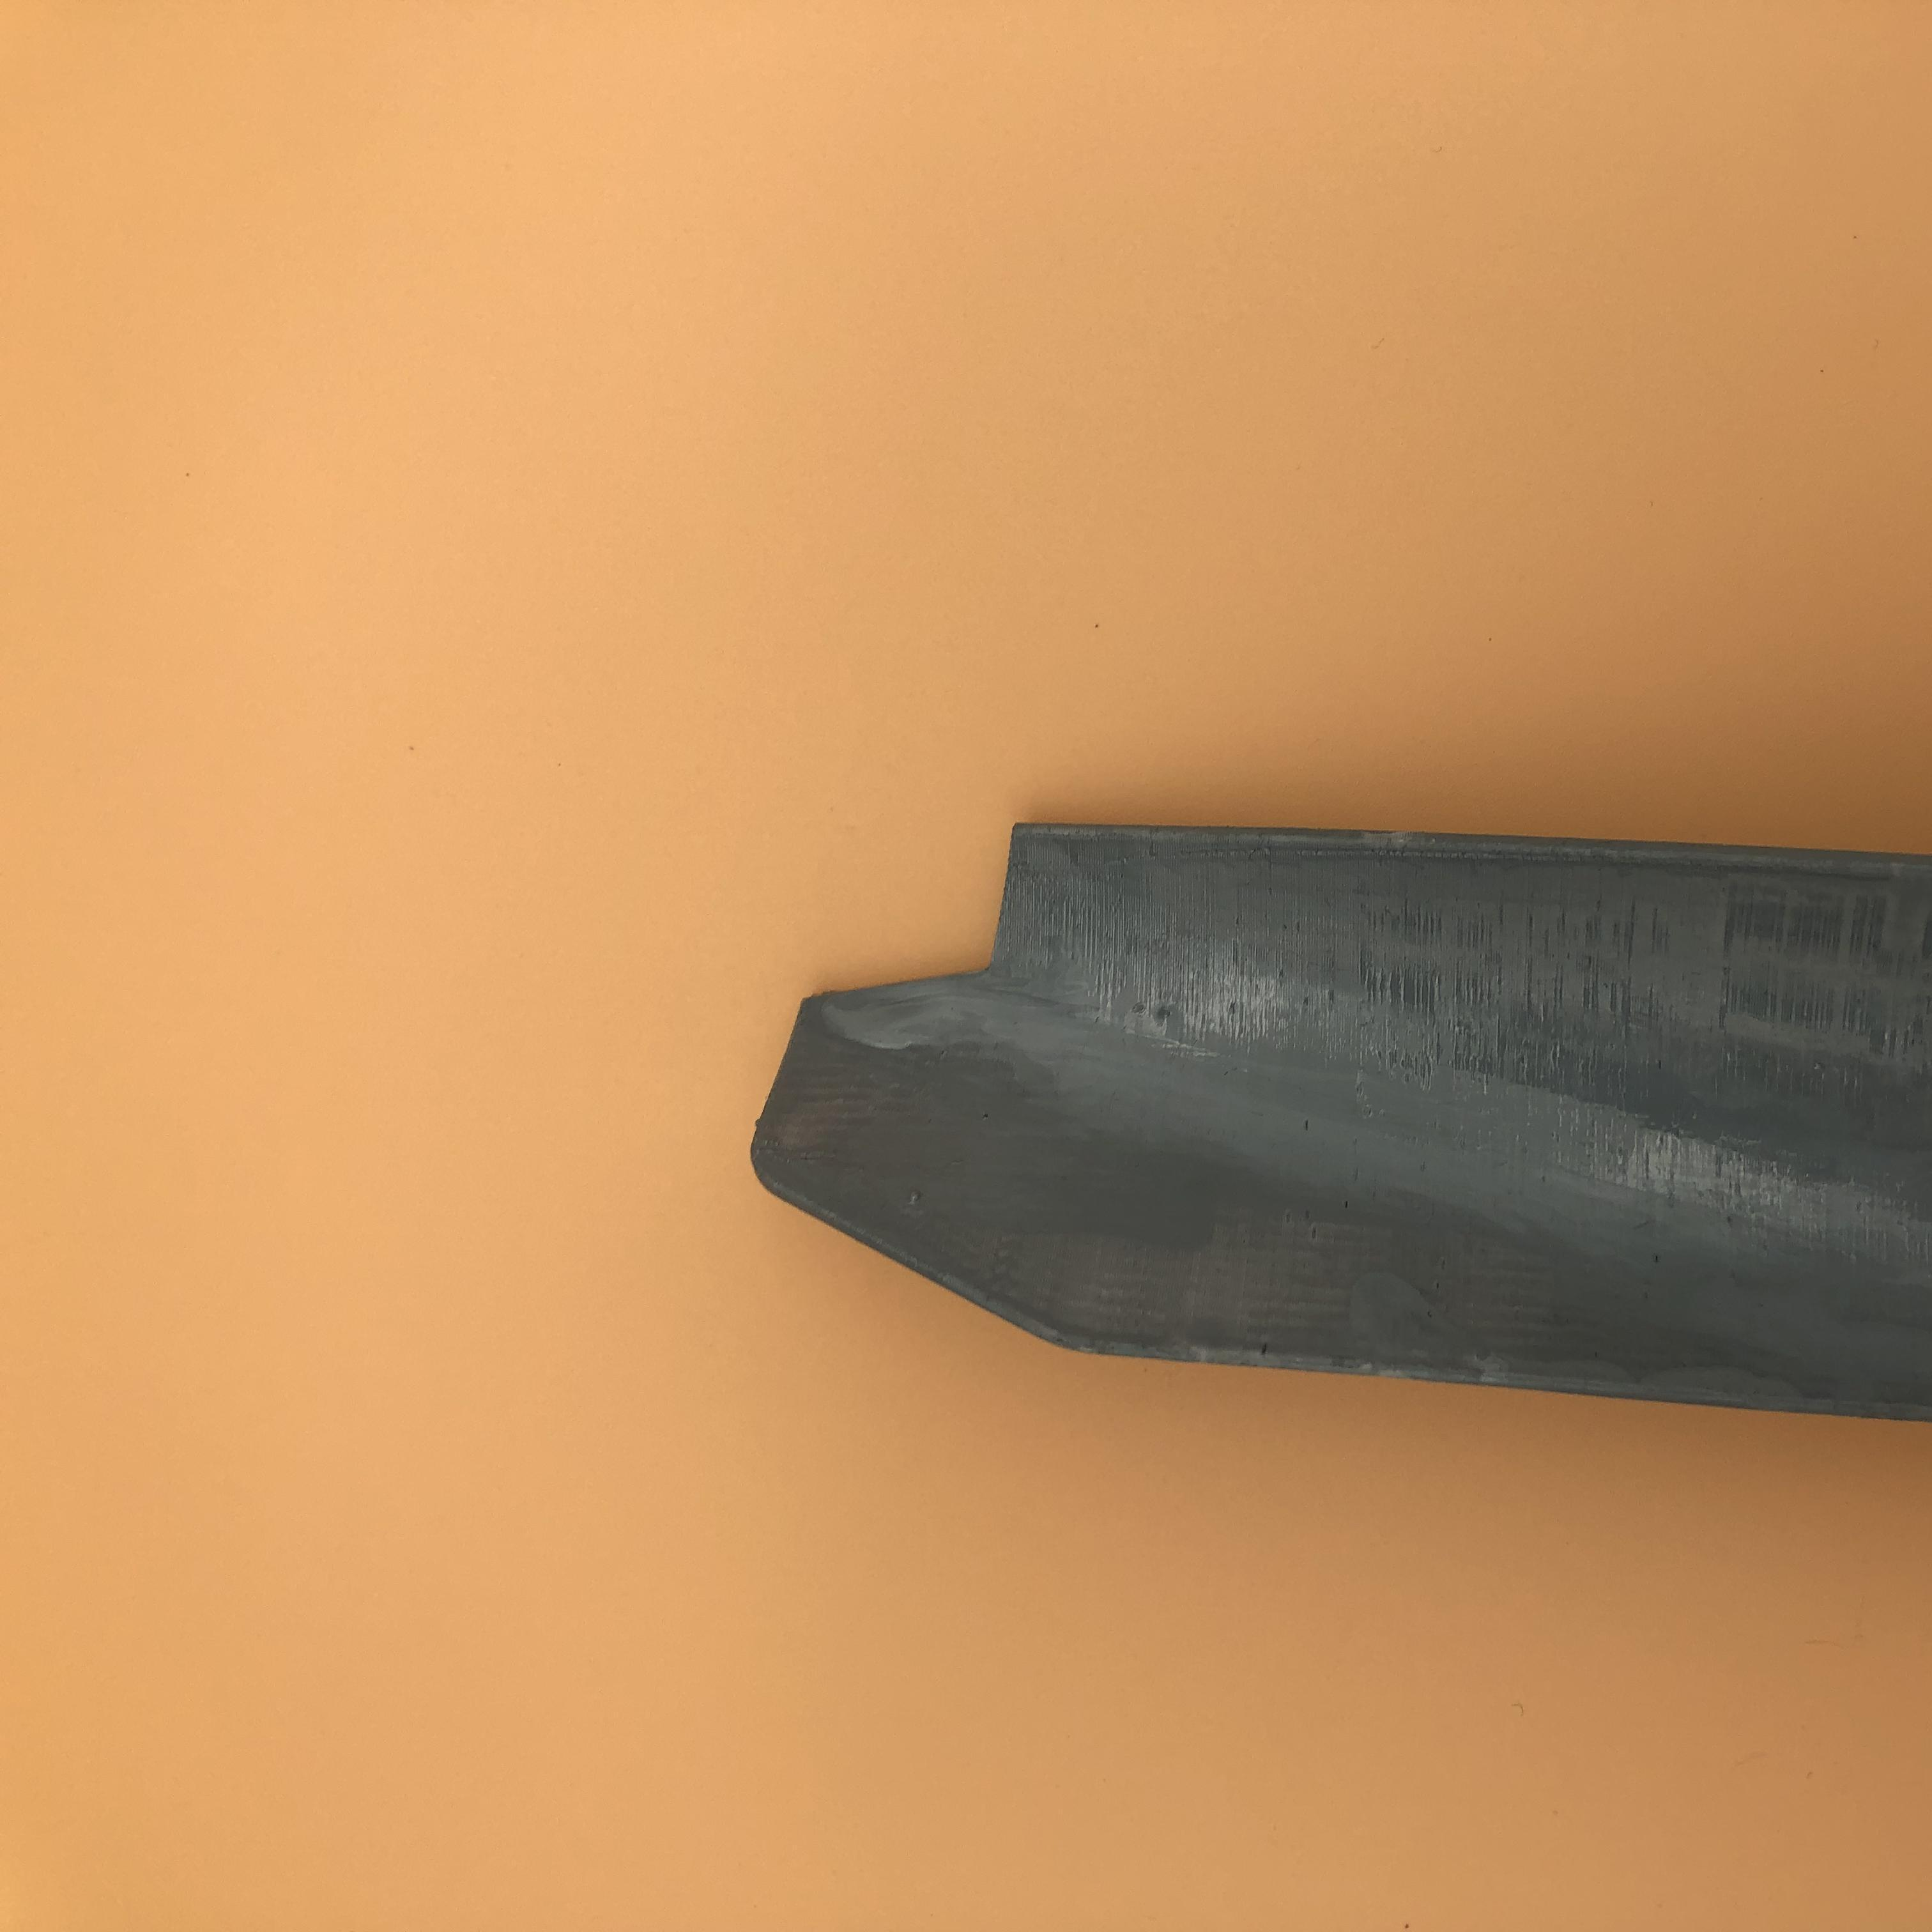fracture: (807, 833, 1086, 1051)
